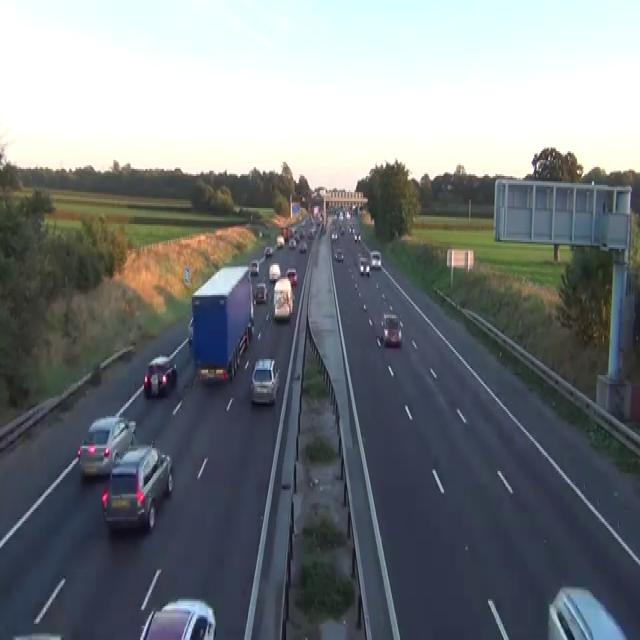Car: (101, 441, 173, 533), (547, 585, 628, 638), (76, 414, 136, 478), (139, 598, 216, 638), (143, 354, 177, 398), (250, 358, 280, 406), (273, 276, 294, 320), (380, 311, 403, 347), (10, 631, 69, 638), (254, 283, 268, 304), (359, 256, 370, 276), (268, 263, 280, 281), (286, 267, 297, 286), (370, 249, 381, 268), (249, 292, 254, 324), (187, 317, 193, 343), (333, 247, 344, 261), (249, 260, 259, 274), (264, 245, 273, 258), (298, 240, 307, 252), (276, 235, 284, 247), (331, 229, 338, 242), (288, 238, 296, 249), (354, 231, 361, 242), (348, 222, 354, 233), (307, 230, 314, 238), (318, 212, 323, 222), (339, 226, 345, 234), (357, 231, 361, 242), (345, 210, 350, 218), (354, 233, 358, 242), (259, 230, 262, 237)
Truck: (189, 265, 254, 382)
